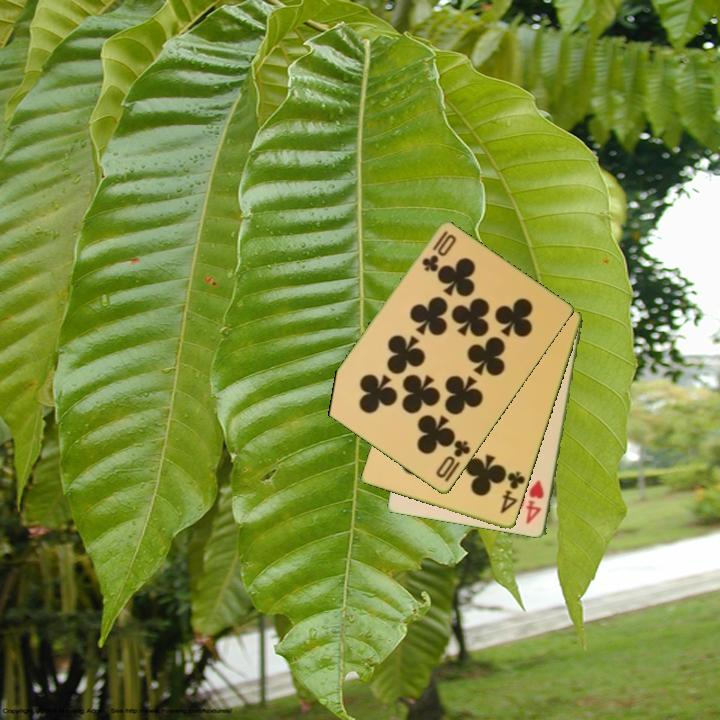10c: (418, 227, 459, 275), (432, 437, 473, 482)
4c: (497, 468, 528, 517)
4h: (522, 477, 547, 527)
